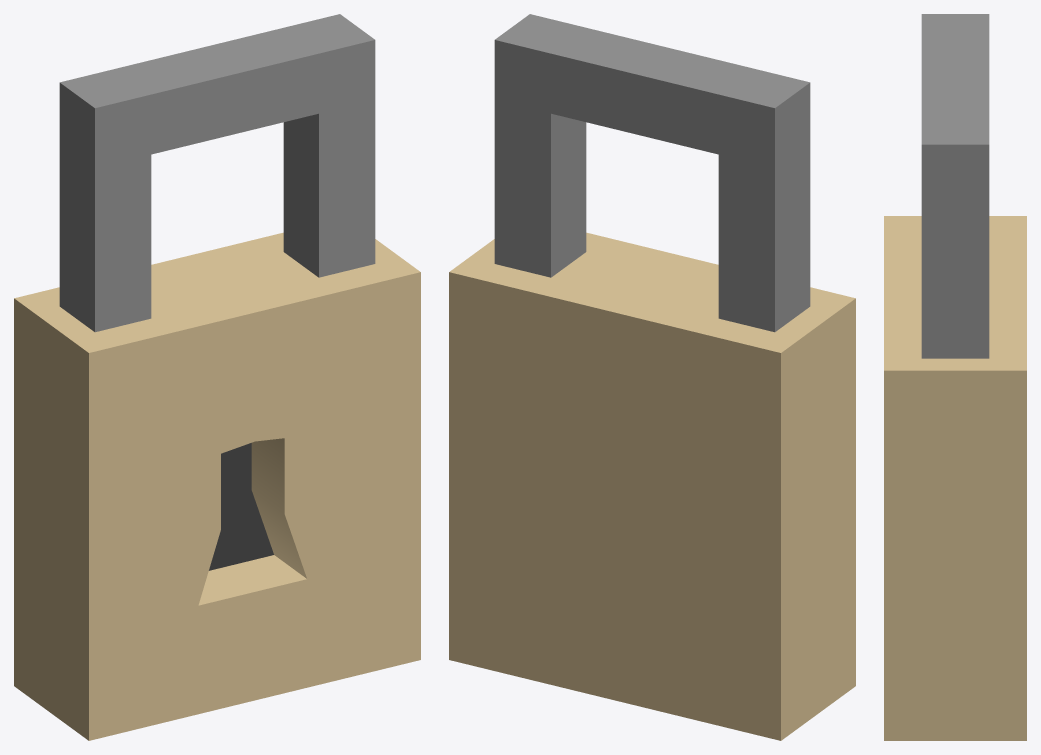
Rendered from PaperLockOrange.fbx.
The picture shows the model from 3 angles, left to right: view 1: azimuth 30°, elevation 25°; view 2: azimuth 150°, elevation 25°; view 3: azimuth 270°, elevation 25°; orthographic projection. The views are drawn at different scales.
Visible parts, largest first — view 1: PaperLockOrange; view 2: PaperLockOrange; view 3: PaperLockOrange.
Boxes of the visible parts, <box> form: PaperLockOrange: <box>14,14,420,740</box>; PaperLockOrange: <box>449,14,855,740</box>; PaperLockOrange: <box>884,14,1026,740</box>.
Bounding box in the file's own units: 0.3022 × 0.5325 × 0.118.
